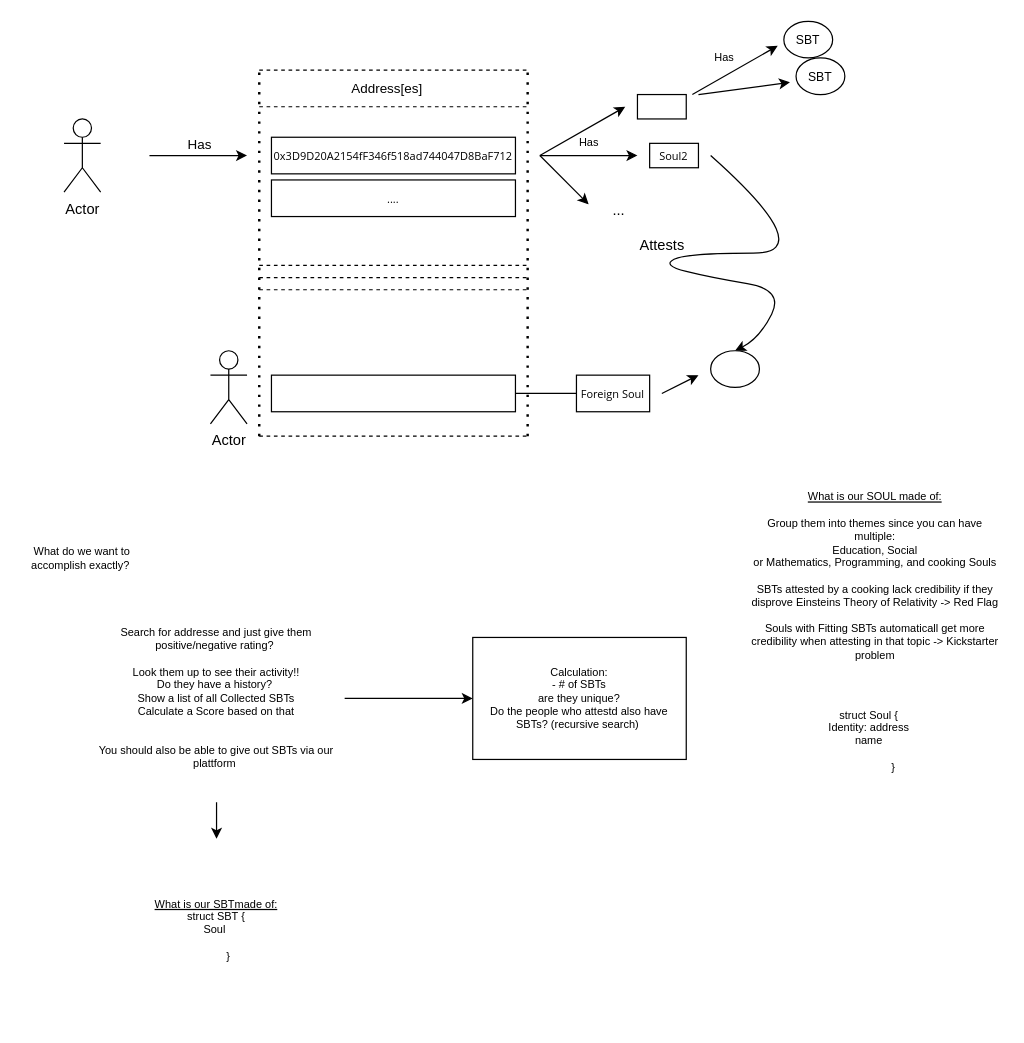
Image size: 1024x1043. Some labels were removed from this diagram. Each missing label, with the centre of its shape:
"+1" SBT: (734,368)
0x9OH85hsfr054fF123766D20744047D8Ba4d904: (392,393)
Soul1: (661,106)
